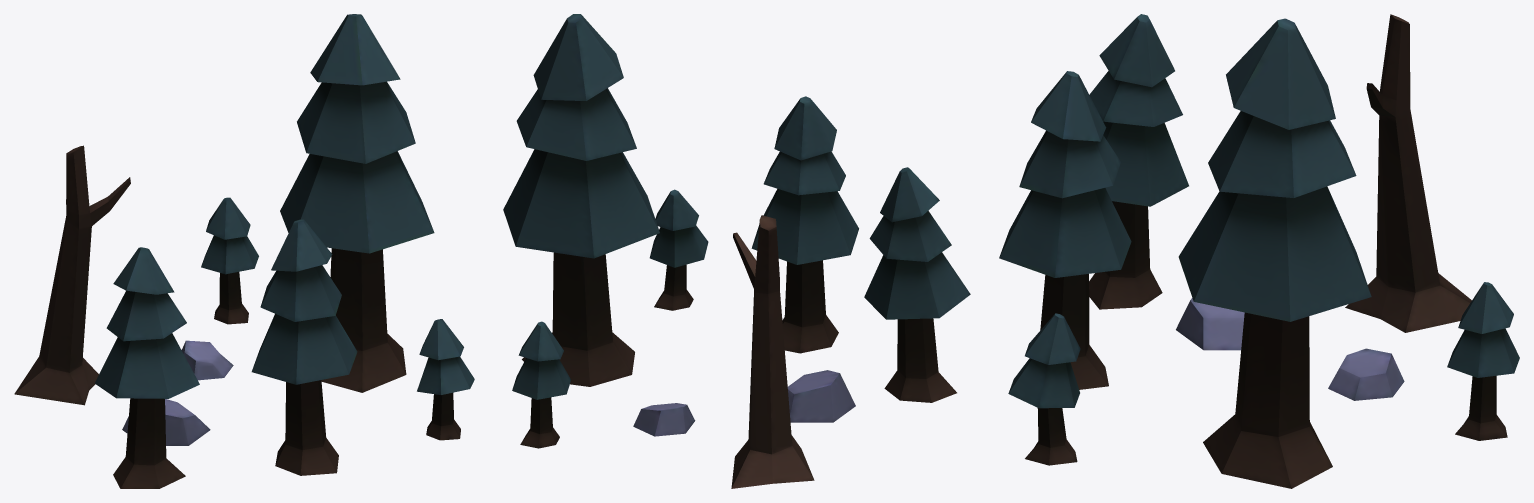
Rendered from tile_wood_1_lod0.fbx.
3 renders of one model, left to right at view 1: azimuth 30°, elevation 25°; view 2: azimuth 150°, elevation 25°; view 3: azimuth 270°, elevation 25°, orthographic. The views are drawn at different scales.
Parts seen in each view (by area): view 1: wood_1_lod0; view 2: wood_1_lod0; view 3: wood_1_lod0.
Part boxes in pixels (left/top/right/bottom): wood_1_lod0: left=14, top=14, right=474, bottom=488; wood_1_lod0: left=503, top=14, right=970, bottom=488; wood_1_lod0: left=999, top=14, right=1519, bottom=488.
Bounding box in the file's own units: 0.0527 × 0.0458 × 0.0495.
